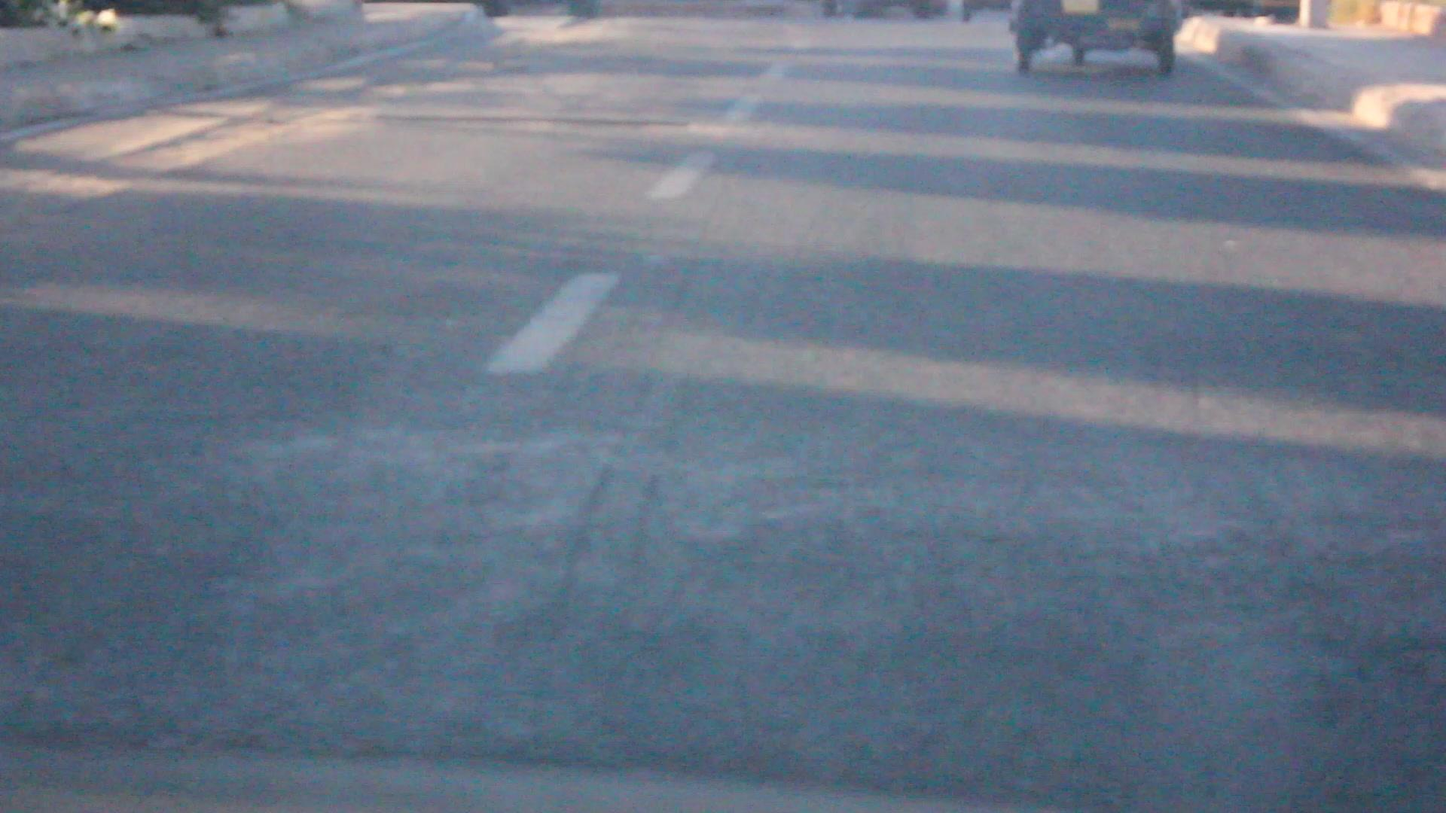Bump: (0, 412, 1445, 812)
